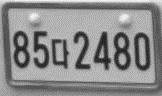0: (133, 31, 150, 70)
2: (72, 30, 91, 70)
4: (93, 30, 111, 70)
5: (32, 30, 49, 68)
8: (112, 31, 131, 70), (12, 29, 30, 68)
다: (50, 38, 69, 69)
